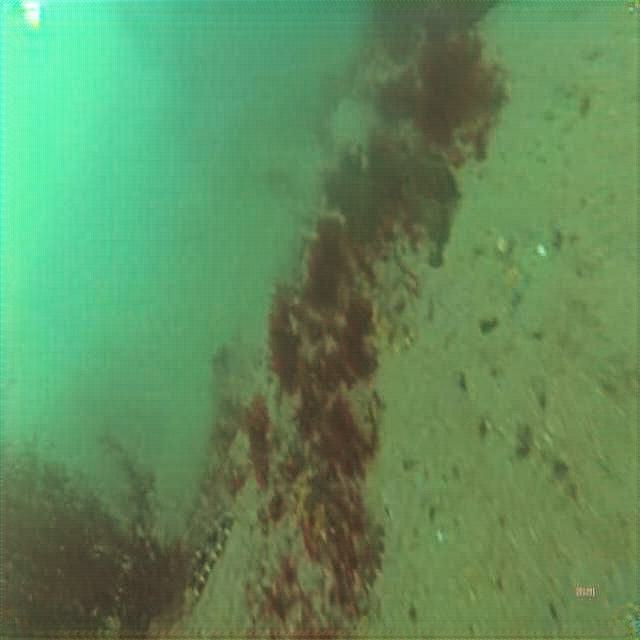holothurian: (183, 510, 237, 606)
